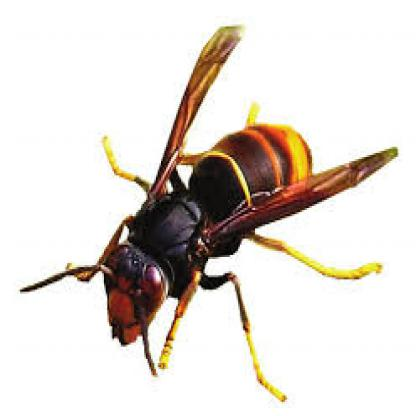asian: (34, 33, 396, 402)
